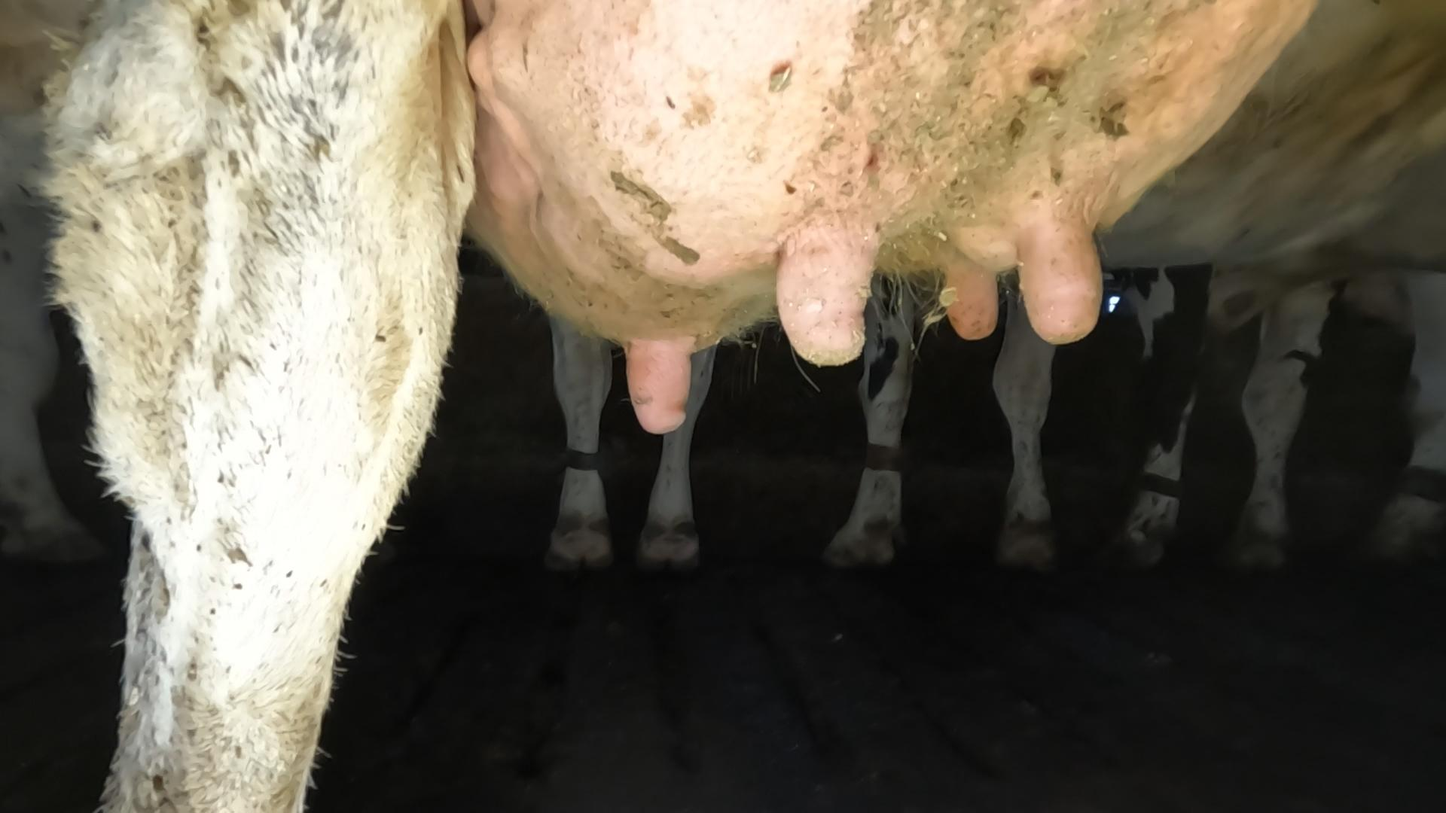Zitze: (1009, 186, 1121, 355), (773, 225, 893, 377), (616, 317, 705, 442), (940, 244, 1002, 356)
